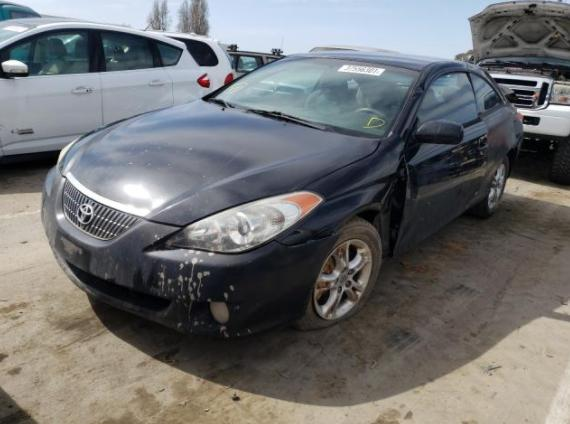Broken part: (388, 147, 410, 260), (467, 112, 491, 207)
Corrosion: (313, 240, 347, 305)
Dent: (370, 173, 394, 254), (392, 158, 407, 253)
Missing part: (54, 231, 89, 270)
